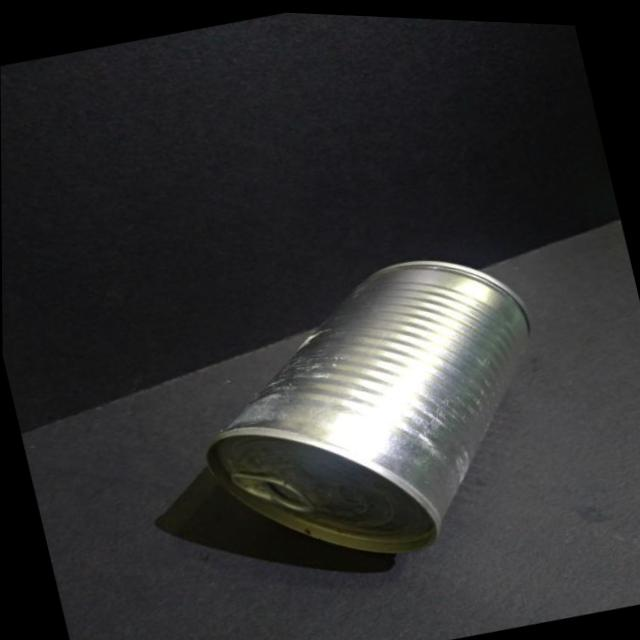metal: (156, 261, 528, 571)
